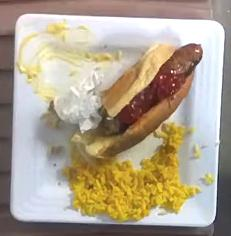hot_dog: (71, 43, 202, 165)
rice: (63, 122, 199, 220)
